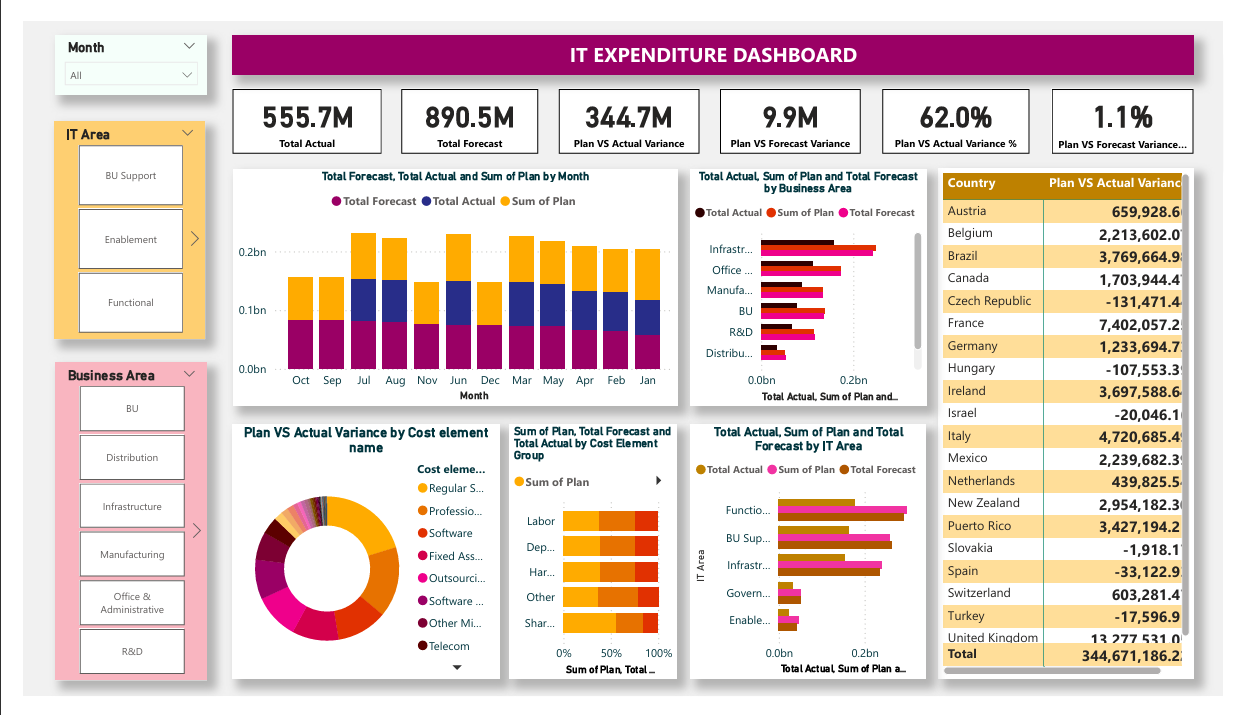

This screenshot's page, from the dashboard's own definition file:
{"tool":"powerbi","page":{"name":"Dashboard","canvas":[1280,720],"ordinal":0},"visuals":[{"type":"card","fields":{"Values":["Measure.Total Actual"]},"box":[223.2,72.4,159.3,68.8],"z":1000},{"type":"card","fields":{"Values":["Measure.Total Forecast"]},"box":[403,72.4,146,68.8],"z":2000},{"type":"card","fields":{"Values":["Measure.Plan VS Actual Variance"]},"box":[570.6,72.4,150.8,68.8],"z":3000},{"type":"card","fields":{"Values":["Measure.Plan VS Actual Variance %"]},"box":[915.7,72.4,156.8,68.8],"z":4000},{"type":"card","fields":{"Values":["Measure.Plan VS Forecast Variance"]},"box":[743.2,72.4,149.6,68.8],"z":5000},{"type":"card","fields":{"Values":["Measure.Plan VS Forecast Variance %"]},"box":[1096.9,72.3,151.5,68.4],"z":6000},{"type":"pivotTable","fields":{"Rows":["Data.Country"],"Values":["Measure.Plan VS Actual Variance"]},"box":[976,157.1,272.7,545.3],"z":7000},{"type":"columnChart","fields":{"Category":["Data.Month"],"Y":["Measure.Total Forecast","Measure.Total Actual","Sum(Data.Plan)"]},"box":[223.8,157.5,473.8,252.5],"z":8000},{"type":"donutChart","fields":{"Y":["Measure.Plan VS Actual Variance"],"Category":["Data.Cost element name"]},"box":[223.2,429.8,284.7,272.7],"z":9000},{"type":"hundredPercentStackedBarChart","fields":{"Y":["Sum(Data.Plan)","Measure.Total Forecast","Measure.Total Actual"],"Category":["Data.Cost Element Group"]},"box":[517.6,429.8,179.8,272.7],"z":10000},{"type":"clusteredBarChart","fields":{"Y":["Measure.Total Actual","Sum(Data.Plan)","Measure.Total Forecast"],"Category":["Data.Business Area"]},"box":[711.2,157.5,251.2,252.5],"z":11000},{"type":"clusteredBarChart","fields":{"Y":["Measure.Total Actual","Sum(Data.Plan)","Measure.Total Forecast"],"Category":["Data.IT Area"]},"box":[711.8,429.8,250.9,272.7],"z":12000},{"type":"slicer","fields":{"Values":["Data.Business Area"]},"box":[34,363.7,161.7,339],"z":13000},{"type":"slicer","fields":{"Values":["Data.Month"]},"box":[33.9,15,161.9,63.8],"z":14000},{"type":"textbox","box":[223.2,14.8,1025.5,42.2],"z":16000},{"type":"slicer","fields":{"Values":["Data.IT Area"]},"box":[33.2,106.9,161.2,232.5],"z":17000}]}

Visuals, with their boxes in screenshot pixels (x1, y1, x2, y2), scaled from the page's 1280x720 canvas onto the 1242x715 screenshot:
card - Measure.Total Actual: x1=217 y1=72 x2=371 y2=140
card - Measure.Total Forecast: x1=391 y1=72 x2=533 y2=140
card - Measure.Plan VS Actual Variance: x1=554 y1=72 x2=700 y2=140
card - Measure.Plan VS Actual Variance %: x1=889 y1=72 x2=1041 y2=140
card - Measure.Plan VS Forecast Variance: x1=721 y1=72 x2=866 y2=140
card - Measure.Plan VS Forecast Variance %: x1=1064 y1=72 x2=1211 y2=140
pivotTable - Data.Country x Measure.Plan VS Actual Variance: x1=947 y1=156 x2=1212 y2=698
columnChart - Data.Month x Measure.Total Forecast: x1=217 y1=156 x2=677 y2=407
donutChart - Measure.Plan VS Actual Variance x Data.Cost element name: x1=217 y1=427 x2=493 y2=698
hundredPercentStackedBarChart - Sum(Data.Plan) x Measure.Total Forecast: x1=502 y1=427 x2=677 y2=698
clusteredBarChart - Measure.Total Actual x Sum(Data.Plan): x1=690 y1=156 x2=934 y2=407
clusteredBarChart - Measure.Total Actual x Sum(Data.Plan): x1=691 y1=427 x2=934 y2=698
slicer - Data.Business Area: x1=33 y1=361 x2=190 y2=698
slicer - Data.Month: x1=33 y1=15 x2=190 y2=78
textbox: x1=217 y1=15 x2=1212 y2=57
slicer - Data.IT Area: x1=32 y1=106 x2=189 y2=337
